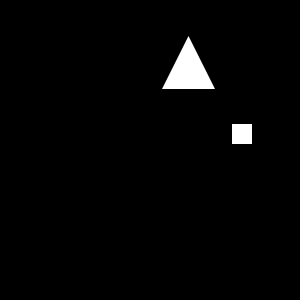circle: (232, 124, 252, 144)
triangle: (162, 36, 215, 89)
